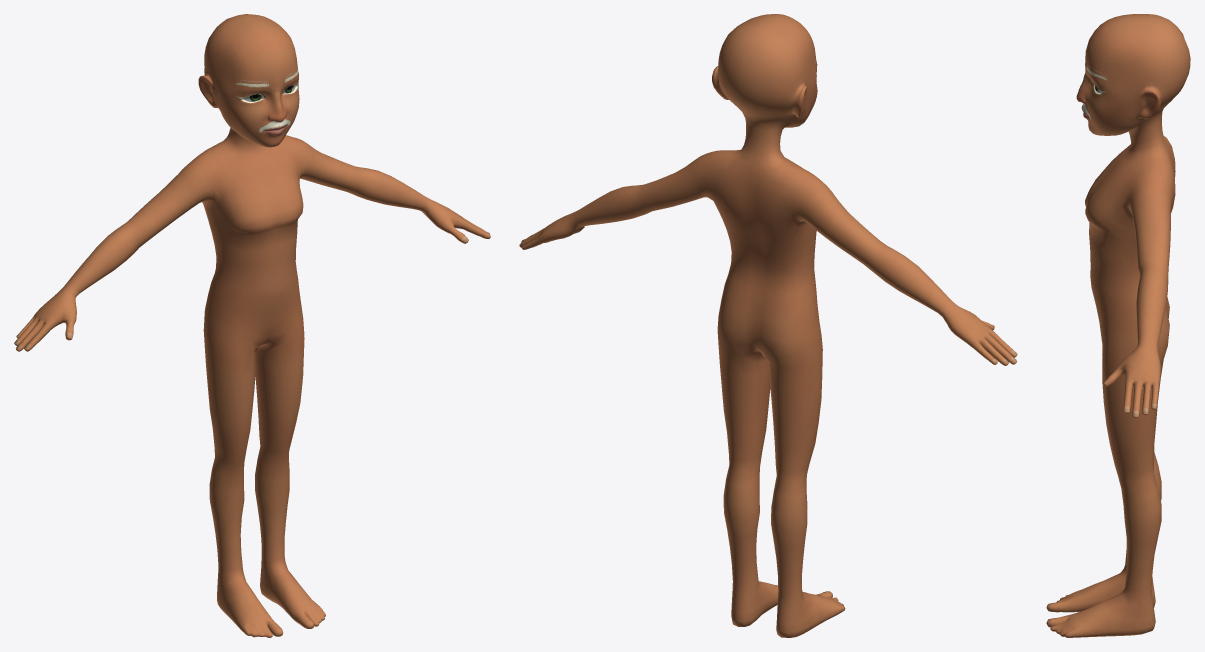
The model's file is frame_0083.glb.
3 renders of one model, left to right at view 1: azimuth 30°, elevation 25°; view 2: azimuth 150°, elevation 25°; view 3: azimuth 270°, elevation 25°, orthographic. The views are drawn at different scales.
Visible parts, largest first — view 1: frame_0083_head_geo; view 2: frame_0083_head_geo; view 3: frame_0083_head_geo.
Part boxes in pixels (x1,y1,x2,y2): frame_0083_head_geo: (14,14,490,637); frame_0083_head_geo: (519,14,1017,637); frame_0083_head_geo: (1046,14,1190,637).
Size of the model in its own units: 1.28 by 1.5 by 0.3253.
3 materials, 3 textured.
